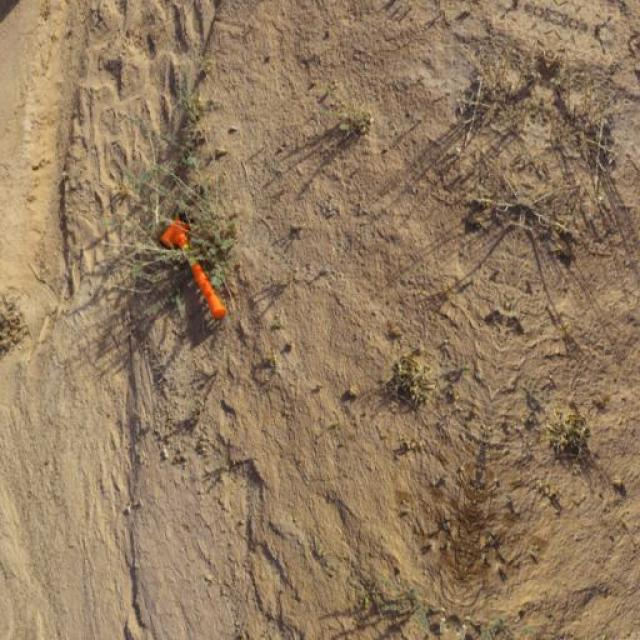mallet: (160, 216, 229, 320)
